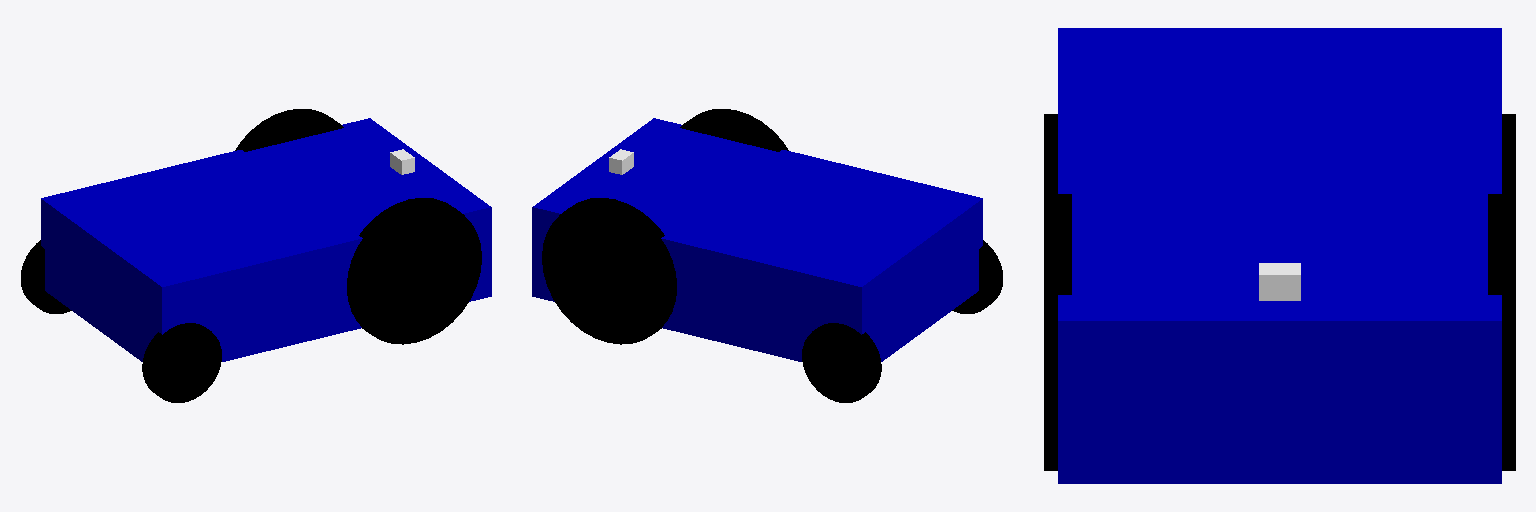
URDF robot description (Xcar):
<?xml version="1.0"?>  
<robot name="Xcar">  
  <link name="base_link">  
    <visual>  
      <geometry>  
        <box size="0.5 .32 .13"/>
    </geometry>  
    <origin rpy="0 0 0" xyz="0.12 0 -0.05"/>   <!-- 1.57075 -->
    <material name="blue">
        <color rgba="0 0 .8 1"/> 
    </material>  
    </visual>  
 </link>  
  
 <link name="right_front_wheel">  
    <visual>  
      <geometry>  
        <cylinder length=".02" radius="0.1"/>
      </geometry>  
      <material name="black">  
        <color rgba="0 0 0 1"/>  
      </material>  
    </visual>  
  </link>  
  
  <joint name="right_front_wheel_joint" type="continuous">  
    <axis xyz="0 0 1"/>  
    <parent link="base_link"/>  
    <child link="right_front_wheel"/>  
    <origin rpy="0 1.57075 1.57075" xyz="0.25 0.16 -0.05"/>
    <limit effort="100" velocity="100"/>  
    <joint_properties damping="0.0" friction="0.0"/>  
  </joint>  
  
  <link name="right_back_wheel">  
    <visual>  
      <geometry>  
        <cylinder length=".02" radius="0.055"/>
      </geometry>  
      <material name="black">  
        <color rgba="0 0 0 1"/>  
      </material>  
    </visual>  
  </link>  
  
  <joint name="right_back_wheel_joint" type="continuous">  
    <axis xyz="0 0 1"/>  
    <parent link="base_link"/>  
    <child link="right_back_wheel"/>  
    <origin rpy="0 1.57075 1.57075" xyz="-0.1 0.16 -0.1"/>
    <limit effort="100" velocity="100"/>  
    <joint_properties damping="0.0" friction="0.0"/>  
 </joint>  
  
 <link name="left_front_wheel">  
    <visual>  
      <geometry>  
        <cylinder length=".02" radius="0.1"/>
      </geometry>  
      <material name="black">  
        <color rgba="0 0 0 1"/>  
      </material>  
    </visual>  
  </link>  
  
  <joint name="left_front_wheel_joint" type="continuous">  
    <axis xyz="0 0 1"/>  
    <parent link="base_link"/>  
    <child link="left_front_wheel"/>  
    <origin rpy="0 1.57075 1.57075" xyz="0.25 -0.16 -0.05"/>
    <limit effort="100" velocity="100"/>  
    <joint_properties damping="0.0" friction="0.0"/>  
  </joint>  
  
  <link name="left_back_wheel">  
    <visual>  
      <geometry>  
        <cylinder length=".02" radius="0.055"/>
      </geometry>  
      <material name="black">  
        <color rgba="0 0 0 1"/>  
      </material>  
    </visual>  
  </link>  
  
  <joint name="left_back_wheel_joint" type="continuous">  
    <axis xyz="0 0 1"/>  
    <parent link="base_link"/>  
    <child link="left_back_wheel"/>  
    <origin rpy="0 1.57075 1.57075" xyz="-0.1 -0.16 -0.1"/>
    <limit effort="100" velocity="100"/>  
    <joint_properties damping="0.0" friction="0.0"/>  
  </joint>  
  
  <link name="laser">
    <visual>
      <geometry>  
        <box size=".02 .03 .03"/>  
      </geometry>  
      <material name="white">  
          <color rgba="1 1 1 1"/>  
      </material>  
    </visual>  
  </link>  
  
  <joint name="lidar" type="fixed">
    <parent link="base_link"/>  
    <child link="laser"/>
    <origin rpy="0 0 0" xyz="0.327 0 0.021"/> <!-- 1.57075 -->
  </joint>  
</robot>

--- Render facts (derived) ---
3 views of the same robot in one strip: view 1: azimuth 30°, elevation 25°; view 2: azimuth 150°, elevation 25°; view 3: azimuth 270°, elevation 25° (orthographic).
Robot: Xcar — 6 links, 5 joints (4 continuous, 1 fixed); root link base_link; default pose: every joint at zero.
Links seen in each view (by area): view 1: base_link, left_front_wheel, left_back_wheel, right_front_wheel, right_back_wheel; view 2: base_link, right_front_wheel, right_back_wheel, left_front_wheel, left_back_wheel; view 3: base_link, right_front_wheel, left_front_wheel, laser, right_back_wheel, left_back_wheel.
Link boxes in pixels (x1,y1,x2,y2): base_link: (41,118,491,361); left_front_wheel: (347,198,481,344); left_back_wheel: (142,323,221,402); right_front_wheel: (235,109,343,151); right_back_wheel: (21,240,71,313); base_link: (532,118,982,361); right_front_wheel: (542,198,676,344); right_back_wheel: (802,323,881,402); left_front_wheel: (680,109,788,151); left_back_wheel: (952,240,1002,313); base_link: (1058,28,1501,483); right_front_wheel: (1488,194,1515,470); left_front_wheel: (1044,194,1071,470); laser: (1259,263,1300,300); right_back_wheel: (1502,114,1515,193); left_back_wheel: (1044,114,1057,193).
Size in the robot's own frame: 0.525 by 0.34 by 0.205 metres.
Geometry: primitives only (box / cylinder / sphere), no mesh files.